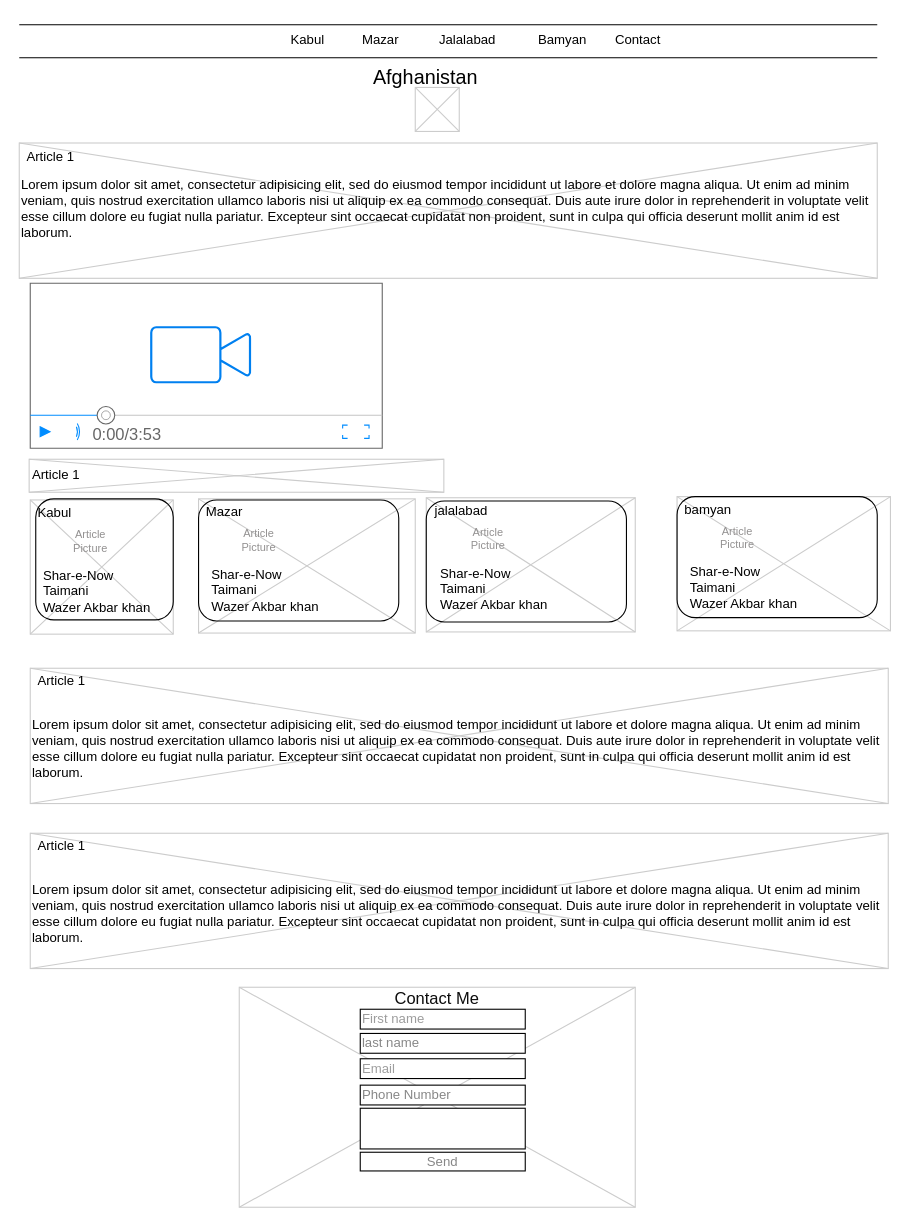
This 910x1227 diagram has some shape labels left out. Each missing label, with the centre of its shape:
"Blog Logo" belongs at point 436,108.
"Message" belongs at point 442,1128.
